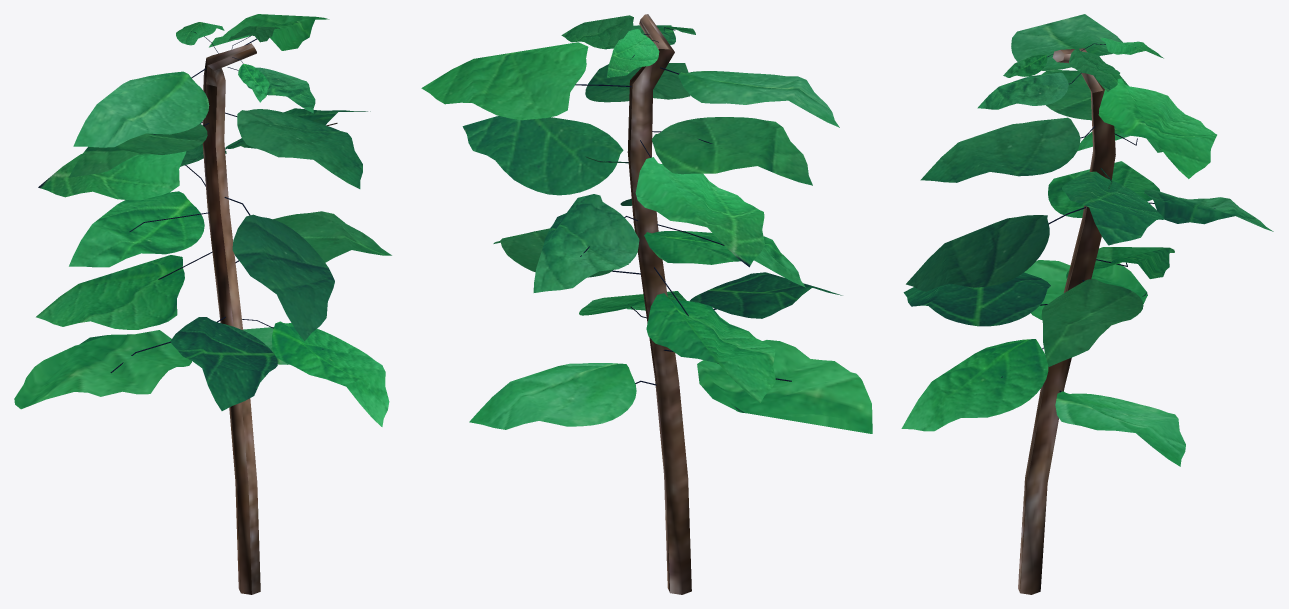
Rendered from plant.fbx.
3 views of the same model, side by side, from view 1: azimuth 30°, elevation 25°; view 2: azimuth 150°, elevation 25°; view 3: azimuth 270°, elevation 25° (orthographic). The views are drawn at different scales.
Visible parts, largest first — view 1: Stiel, Circle, Circle.002, Circle.003, Circle.013, Circle.006, Circle.018, Circle.004, Circle.009, Circle.010, Circle.011, Circle.005 (+5 smaller); view 2: Stiel, Circle.007, Circle, Circle.012, Circle.001, Circle.011, Circle.003, Circle.008, Circle.010, Circle.013, Circle.018, Circle.006 (+5 smaller); view 3: Stiel, Circle.004, Circle.002, Circle.009, Circle.012, Circle.005, Circle.018, Circle.001, Circle.007, Circle.013, Circle.008, Circle.015 (+7 smaller).
Boxes of the visible parts, x1,y1,x2,y2 form: Stiel: [202, 43, 260, 594]; Circle: [14, 330, 191, 409]; Circle.002: [232, 214, 334, 341]; Circle.003: [36, 255, 184, 329]; Circle.013: [73, 71, 209, 147]; Circle.006: [69, 191, 204, 267]; Circle.018: [171, 317, 277, 410]; Circle.004: [272, 321, 389, 426]; Circle.009: [237, 109, 362, 188]; Circle.010: [38, 151, 186, 200]; Circle.011: [68, 123, 207, 177]; Circle.005: [273, 211, 391, 262]; Stiel: [627, 14, 691, 594]; Circle.007: [462, 116, 623, 195]; Circle: [697, 340, 872, 433]; Circle.012: [421, 42, 588, 120]; Circle.001: [469, 363, 636, 429]; Circle.011: [651, 117, 812, 185]; Circle.003: [646, 293, 775, 402]; Circle.008: [533, 194, 639, 292]; Circle.010: [635, 157, 764, 267]; Circle.013: [678, 71, 839, 127]; Circle.018: [690, 272, 842, 318]; Circle.006: [644, 231, 805, 287]; Stiel: [1018, 48, 1115, 594]; Circle.004: [901, 339, 1048, 431]; Circle.002: [906, 215, 1049, 291]; Circle.009: [920, 117, 1080, 182]; Circle.012: [1098, 78, 1216, 178]; Circle.005: [1041, 279, 1143, 366]; Circle.018: [903, 272, 1050, 326]; Circle.001: [1055, 391, 1185, 466]; Circle.007: [1062, 171, 1163, 245]; Circle.013: [1011, 14, 1122, 70]; Circle.008: [1144, 189, 1273, 231]; Circle.015: [977, 72, 1068, 109].
Size of the model in its own units: 0.3611 by 0.3098 by 0.5068.
